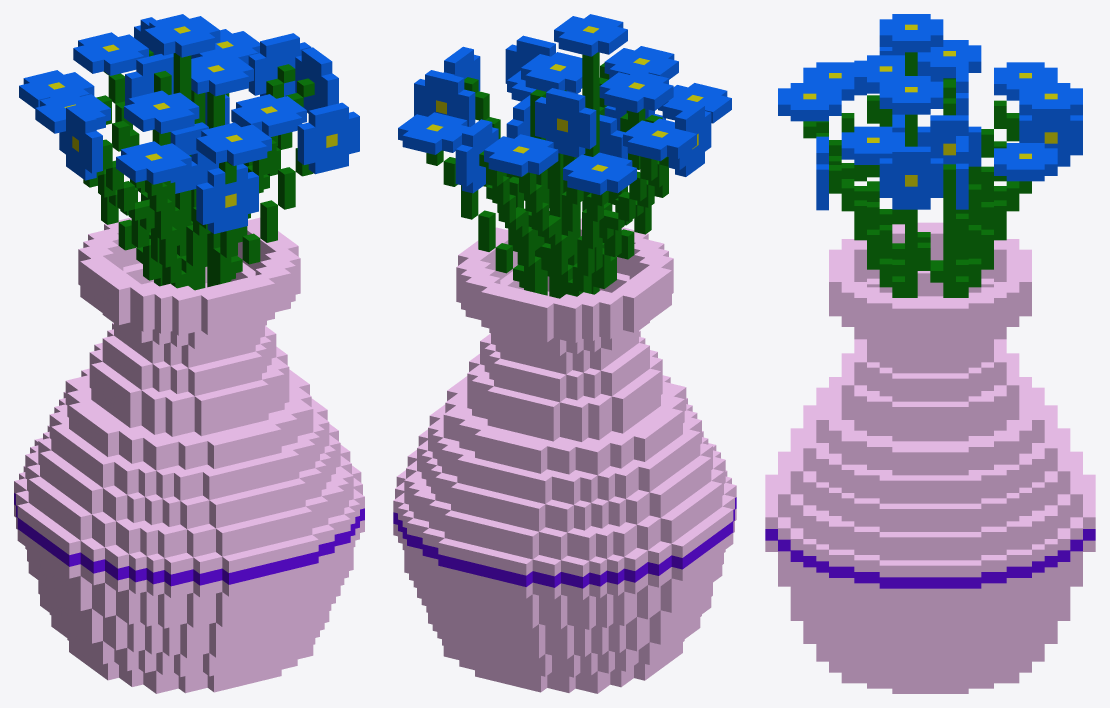
File: Flower Pot-2.obj
The picture shows the model from 3 angles, left to right: view 1: azimuth 30°, elevation 25°; view 2: azimuth 150°, elevation 25°; view 3: azimuth 270°, elevation 25°; orthographic projection. The views are drawn at different scales.
Visible parts, largest first — view 1: Flower Pot-2; view 2: Flower Pot-2; view 3: Flower Pot-2.
Part boxes in pixels (x1,y1,x2,y2): Flower Pot-2: (14,14,364,693); Flower Pot-2: (393,14,736,693); Flower Pot-2: (765,14,1095,693).
Size of the model in its own units: 26 by 53 by 26.
1 material, 1 textured.
